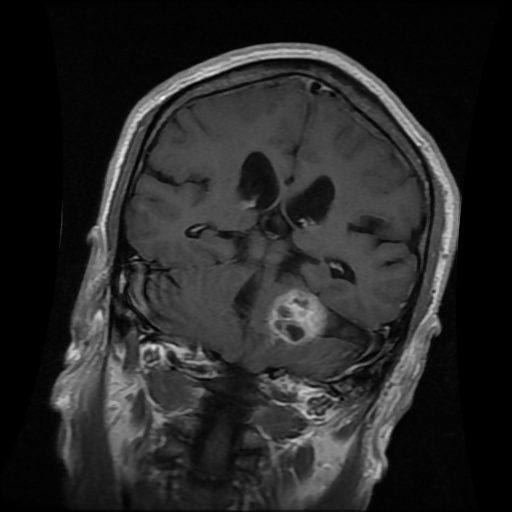meningioma: (268, 288, 327, 343)
